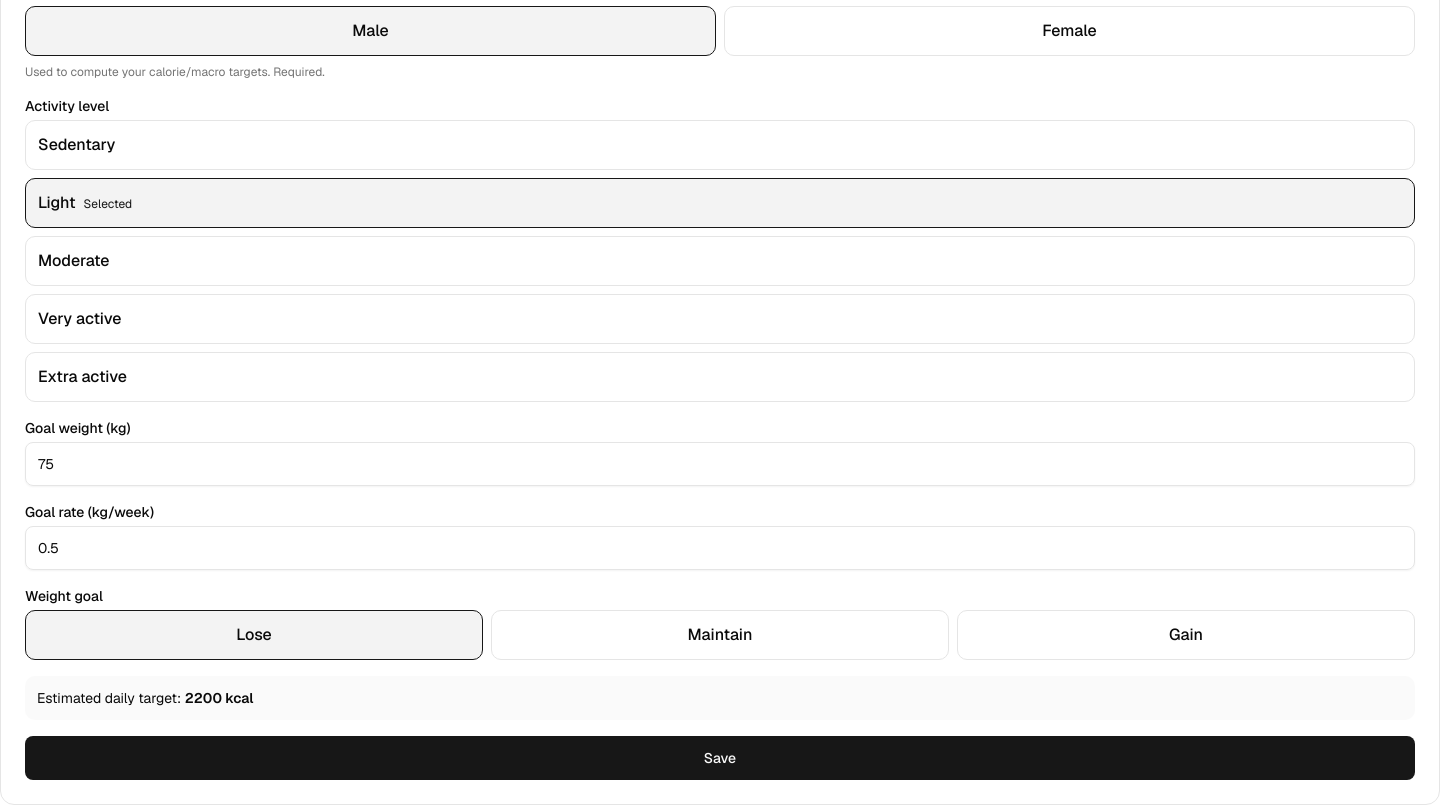
Test: DailyGoalsCard › Save flow › shows error message on non-200 response
The image size is (1440, 805).
(page scrolled)
Click the button "Save".
click(720, 758)  # box 25,736 -> 1415,780
(page scrolled)
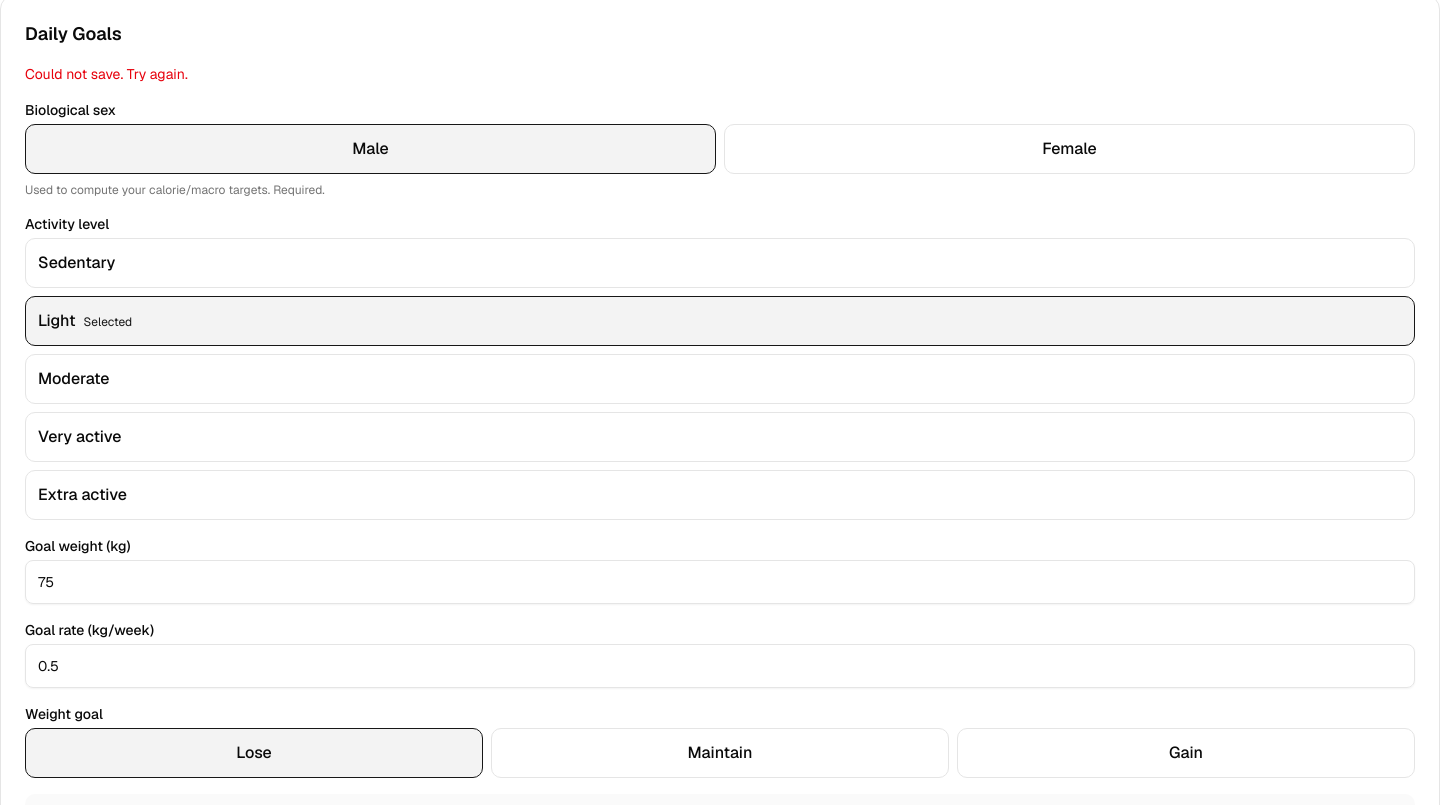
Expected: the text "Could not save. Try again." is shown, 25,65 -> 188,83
